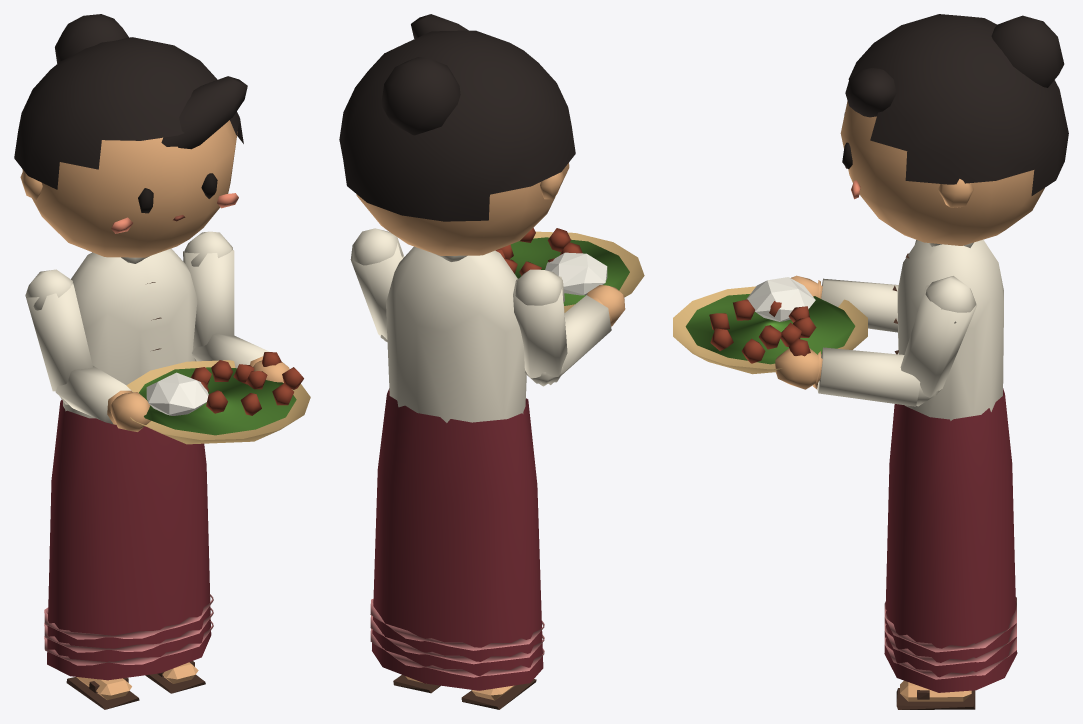
File: north_sai_ua_vendor.glb
3 views of the same model, side by side, from view 1: azimuth 30°, elevation 25°; view 2: azimuth 150°, elevation 25°; view 3: azimuth 270°, elevation 25° (orthographic). The views are drawn at different scales.
Parts seen in each view (by area): view 1: body, head, prop_sausage_tray, arm_R, arm_L, forearm_R, forearm_L, shin_R, shin_L; view 2: body, head, prop_sausage_tray, arm_R, arm_L, forearm_R, shin_R; view 3: body, head, prop_sausage_tray, forearm_L, arm_L, forearm_R, shin_L.
Part boxes in pixels (box(x1,y1,x2,y2)): body: box(44, 248, 213, 680); head: box(14, 14, 247, 257); prop_sausage_tray: box(126, 352, 310, 444); arm_R: box(25, 269, 92, 391); arm_L: box(183, 231, 234, 350); forearm_R: box(55, 366, 150, 431); forearm_L: box(192, 333, 289, 382); shin_R: box(66, 677, 139, 709); shin_L: box(145, 661, 205, 693); body: box(370, 246, 544, 690); head: box(339, 14, 575, 255); prop_sausage_tray: box(495, 228, 644, 312); arm_R: box(513, 269, 567, 386); arm_L: box(350, 228, 404, 341); forearm_R: box(525, 285, 625, 384); shin_R: box(461, 679, 536, 709); body: box(884, 240, 1017, 692); head: box(840, 14, 1068, 245); prop_sausage_tray: box(673, 277, 867, 374); forearm_L: box(775, 347, 938, 406); arm_L: box(900, 276, 976, 406); forearm_R: box(791, 275, 898, 332); shin_L: box(896, 680, 975, 709).
Bounding box in the file's own units: 0.4966 × 1.47 × 0.7922.
